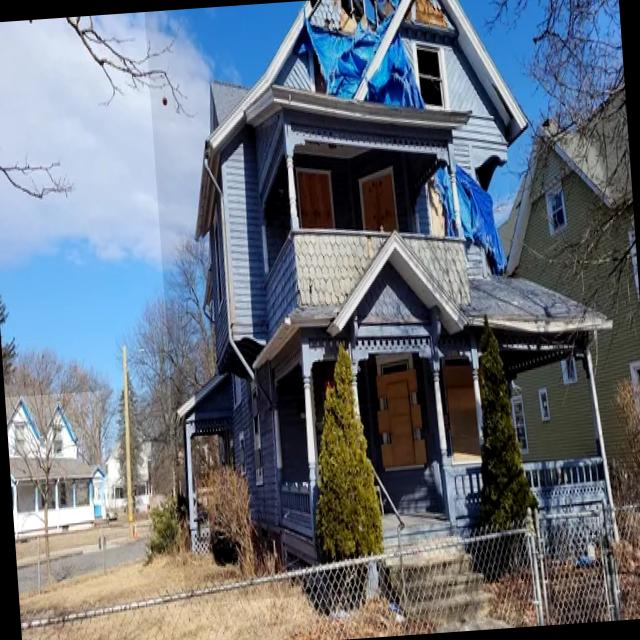House: (144, 0, 628, 604), (486, 80, 640, 477), (5, 390, 110, 536)
